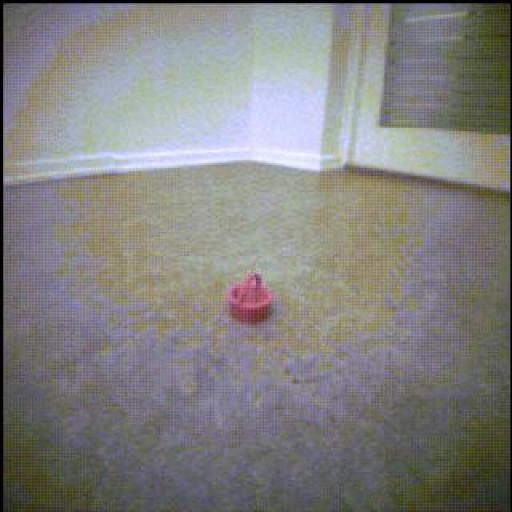Bucket: (227, 273, 273, 324)
